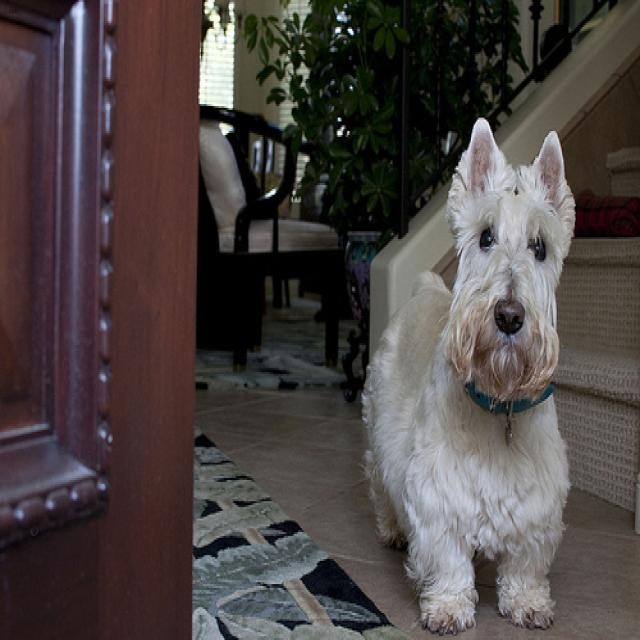dog-scottish_terrier: (356, 110, 582, 636)
